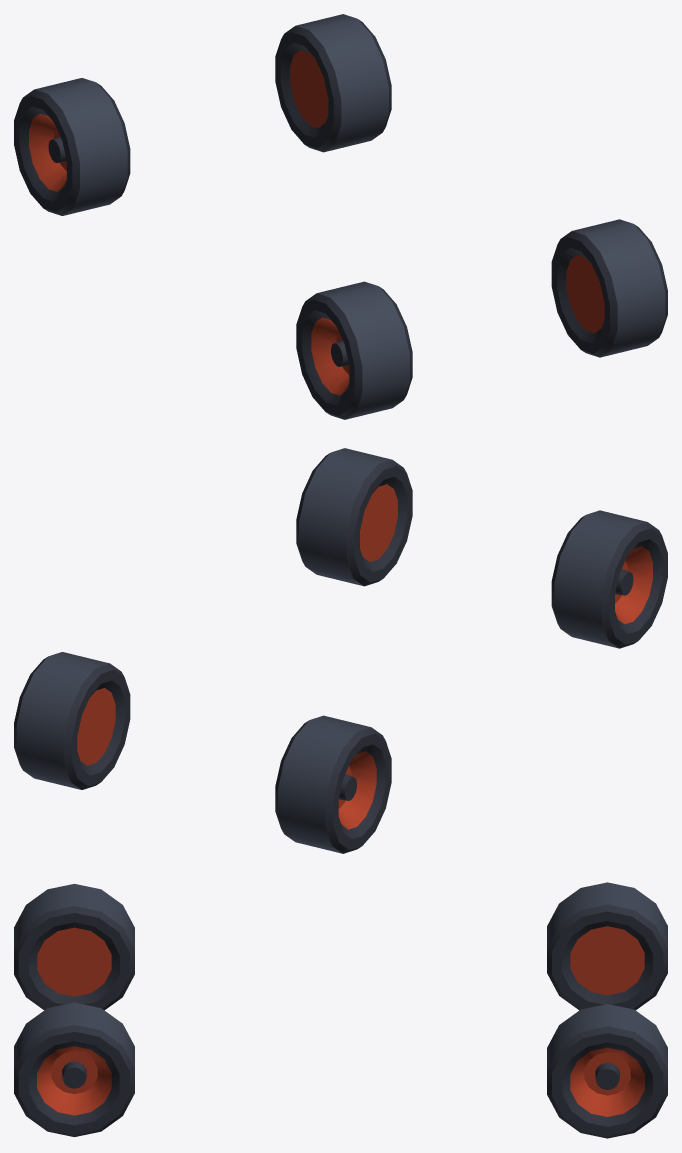
Rendered from WheelsMuscle.fbx.
3 views of the same model, one above another, from view 1: azimuth 30°, elevation 25°; view 2: azimuth 150°, elevation 25°; view 3: azimuth 270°, elevation 25° (orthographic). The views are drawn at different scales.
Parts seen in each view (by area): view 1: WheelMuscleFrontRight, WheelMuscleRearLeft, WheelMuscleFrontLeft, WheelMuscleRearRight; view 2: WheelMuscleFrontLeft, WheelMuscleRearRight, WheelMuscleFrontRight, WheelMuscleRearLeft; view 3: WheelMuscleRearLeft, WheelMuscleFrontLeft, WheelMuscleRearRight, WheelMuscleFrontRight.
Boxes of the visible parts, x1,y1,x2,y2 form: WheelMuscleFrontRight: (296,281,412,419); WheelMuscleRearLeft: (275,14,391,152); WheelMuscleFrontLeft: (551,219,667,357); WheelMuscleRearRight: (14,78,130,215); WheelMuscleFrontLeft: (296,448,412,586); WheelMuscleRearRight: (275,715,391,853); WheelMuscleFrontRight: (551,510,667,648); WheelMuscleRearLeft: (14,652,130,789); WheelMuscleRearLeft: (547,1004,667,1138); WheelMuscleFrontLeft: (14,1002,134,1136); WheelMuscleRearRight: (547,882,667,1010); WheelMuscleFrontRight: (14,884,134,1010).
Size of the model in its own units: 150 by 52.81 by 279.
